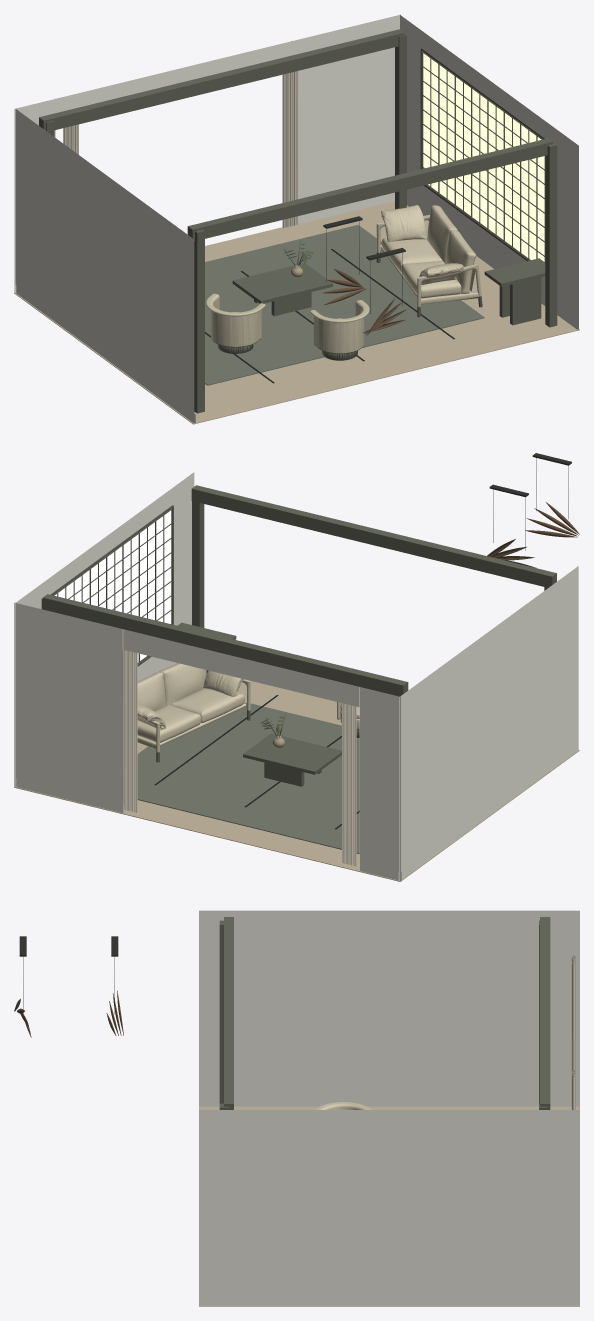
The model's file is great-2.glb.
3 views of the same model, one above another, from view 1: azimuth 30°, elevation 25°; view 2: azimuth 150°, elevation 25°; view 3: azimuth 270°, elevation 25° (orthographic). The views are drawn at different scales.
Parts seen in each view (by area): view 1: DESIGN | great removable wall finish, DESIGN | Great room primary ground, DESIGN | great floor finish, DESIGN | Long luminous room backdrop diffuse backing, DESIGN | Great room sofa facing conversation, DESIGN | Great room timber ceiling member.001, DESIGN | Great room timber ceiling member, DESIGN | Kumiko | Long luminous room backdrop, DESIGN | Great room soft window edge.001, DESIGN | Great room timber end post.002, DESIGN | Required Bellustar swivel chair two, DESIGN | Great room conversation table top (+7 smaller); view 2: DESIGN | great removable wall finish, DESIGN | Great room primary ground, DESIGN | great floor finish, DESIGN | Great room sofa facing conversation, DESIGN | Great room timber ceiling member, DESIGN | Great room timber ceiling member.001, DESIGN | Long luminous room backdrop diffuse backing, DESIGN | Kumiko | Long luminous room backdrop, DESIGN | Great room soft window edge, DESIGN | Great room soft window edge.001, DESIGN | Great room conversation table top, DESIGN | Great room timber end post.002 (+2 smaller); view 3: DESIGN | great removable wall finish, DESIGN | Great room timber ceiling member.001, DESIGN | great floor finish, DESIGN | Great room timber ceiling member, DESIGN | Great room timber end post, DESIGN | Great room soft window edge.
Boxes of the visible parts, x1=… form: DESIGN | great removable wall finish: x1=14, y1=14, x2=578, y2=423; DESIGN | Great room primary ground: x1=205, y1=225, x2=484, y2=385; DESIGN | great floor finish: x1=14, y1=201, x2=579, y2=424; DESIGN | Long luminous room backdrop diffuse backing: x1=423, y1=53, x2=544, y2=261; DESIGN | Great room sofa facing conversation: x1=376, y1=205, x2=482, y2=317; DESIGN | Great room timber ceiling member.001: x1=39, y1=29, x2=404, y2=130; DESIGN | Great room timber ceiling member: x1=187, y1=138, x2=553, y2=241; DESIGN | Kumiko | Long luminous room backdrop: x1=420, y1=48, x2=545, y2=262; DESIGN | Great room soft window edge.001: x1=282, y1=71, x2=298, y2=228; DESIGN | Great room timber end post.002: x1=545, y1=142, x2=557, y2=327; DESIGN | Required Bellustar swivel chair two: x1=310, y1=300, x2=369, y2=360; DESIGN | Great room conversation table top: x1=232, y1=263, x2=332, y2=303; DESIGN | great removable wall finish: x1=14, y1=472, x2=578, y2=880; DESIGN | Great room primary ground: x1=137, y1=703, x2=359, y2=853; DESIGN | great floor finish: x1=14, y1=681, x2=579, y2=881; DESIGN | Great room sofa facing conversation: x1=137, y1=663, x2=250, y2=762; DESIGN | Great room timber ceiling member: x1=191, y1=485, x2=556, y2=587; DESIGN | Great room timber ceiling member.001: x1=42, y1=594, x2=408, y2=696; DESIGN | Long luminous room backdrop diffuse backing: x1=54, y1=510, x2=171, y2=662; DESIGN | Kumiko | Long luminous room backdrop: x1=50, y1=505, x2=173, y2=666; DESIGN | Great room soft window edge: x1=342, y1=703, x2=356, y2=866; DESIGN | Great room soft window edge.001: x1=123, y1=650, x2=137, y2=812; DESIGN | Great room conversation table top: x1=243, y1=733, x2=341, y2=774; DESIGN | Great room timber end post.002: x1=192, y1=501, x2=204, y2=627; DESIGN | great removable wall finish: x1=199, y1=910, x2=579, y2=1305; DESIGN | Great room timber ceiling member.001: x1=540, y1=917, x2=550, y2=1109; DESIGN | great floor finish: x1=199, y1=1106, x2=579, y2=1306; DESIGN | Great room timber ceiling member: x1=224, y1=917, x2=233, y2=1109; DESIGN | Great room timber end post: x1=219, y1=920, x2=223, y2=1103; DESIGN | Great room soft window edge: x1=571, y1=956, x2=575, y2=1070.
Size of the model in its own units: 6 by 3.04 by 7.16.
